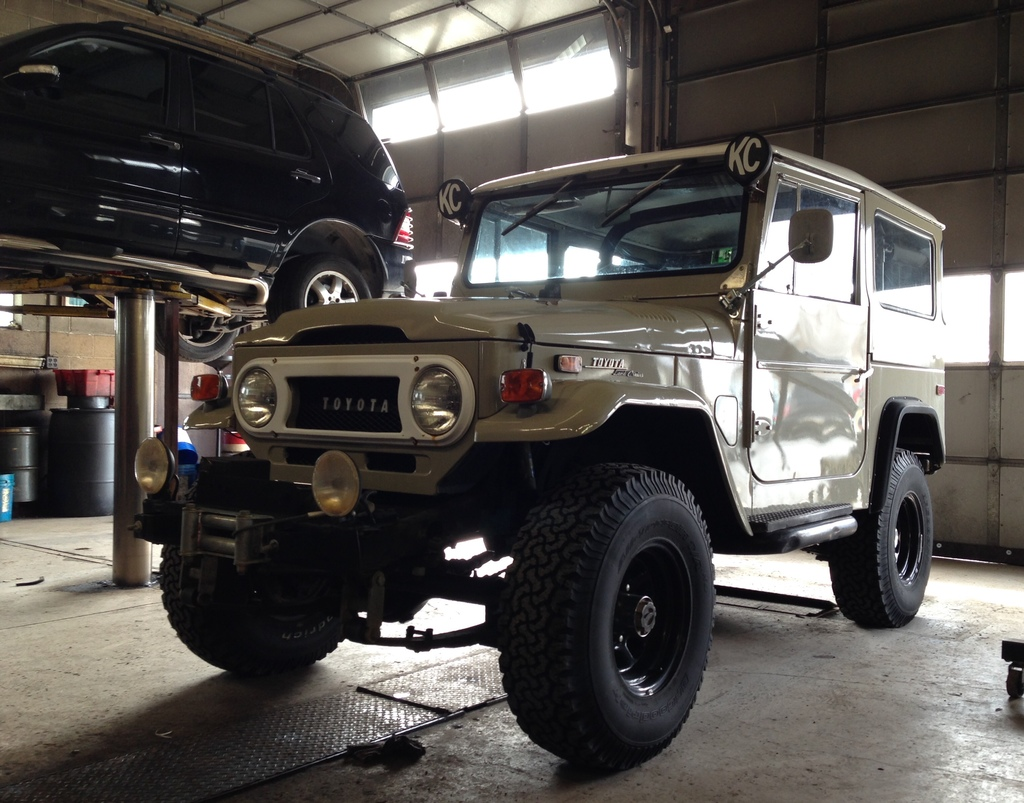Car: (0, 23, 429, 362)
